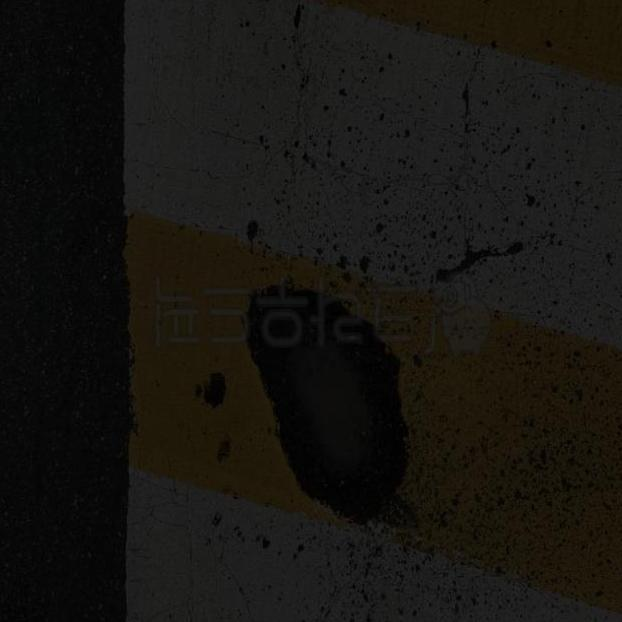pothole: (181, 236, 442, 532)
